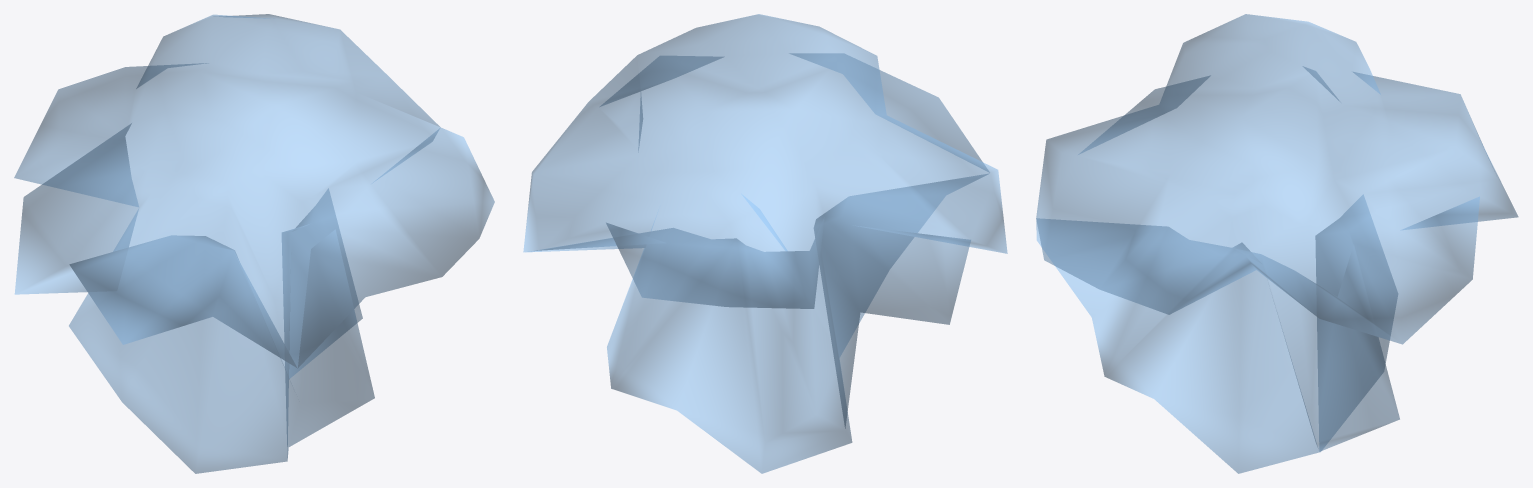
File: sssupply_shield.gltf
The picture shows the model from 3 angles, left to right: view 1: azimuth 30°, elevation 25°; view 2: azimuth 150°, elevation 25°; view 3: azimuth 270°, elevation 25°; orthographic projection.
Parts seen in each view (by area): view 1: sssupply.shield; view 2: sssupply.shield; view 3: sssupply.shield.
Boxes of the visible parts, x1,y1,x2,y2 form: sssupply.shield: (14,14,494,473); sssupply.shield: (523,14,1007,473); sssupply.shield: (1036,14,1518,473).
Size of the model in its own units: 15.93 by 15.67 by 15.82.
